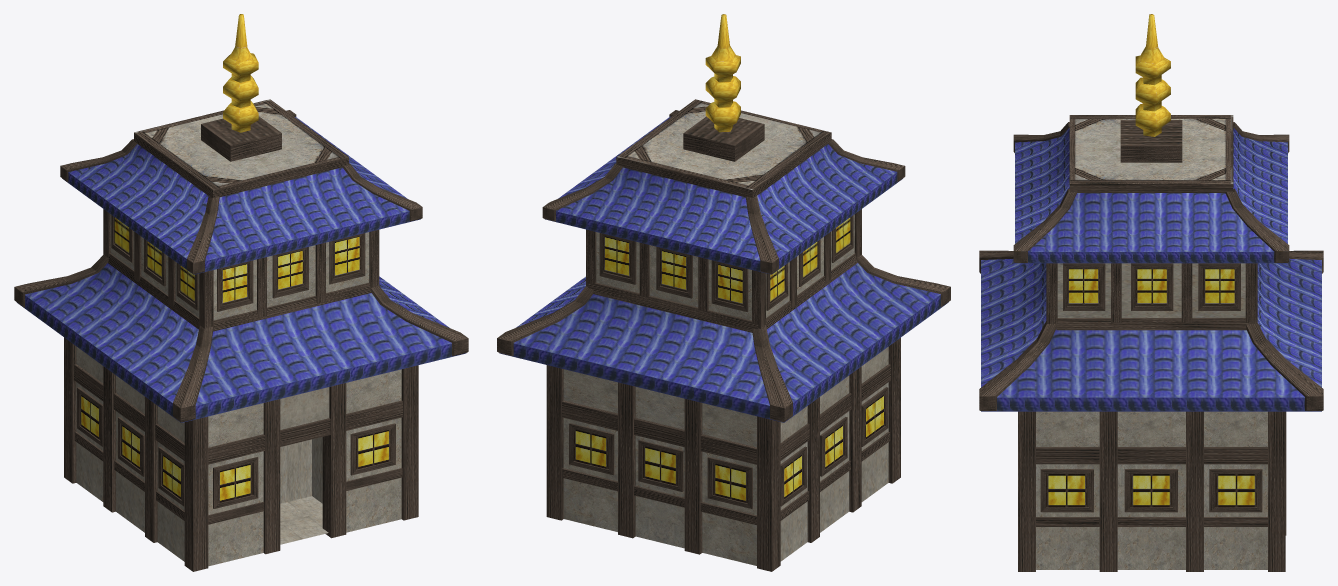
File: casa-oriental-01-b.fbx
The picture shows the model from 3 angles, left to right: view 1: azimuth 30°, elevation 25°; view 2: azimuth 150°, elevation 25°; view 3: azimuth 270°, elevation 25°; orthographic projection. The views are drawn at different scales.
Parts seen in each view (by area): view 1: Cube.000, Cube.002, Cube.001; view 2: Cube.000, Cube.002; view 3: Cube.000, Cube.002.
Boxes of the visible parts, x1,y1,x2,y2 form: Cube.000: [14, 14, 468, 571]; Cube.002: [80, 217, 390, 502]; Cube.001: [280, 437, 328, 544]; Cube.000: [497, 14, 950, 571]; Cube.002: [573, 217, 884, 503]; Cube.000: [979, 14, 1323, 571]; Cube.002: [1046, 268, 1256, 507].
Bounding box in the file's own units: 5.37 × 8.61 × 5.37.
